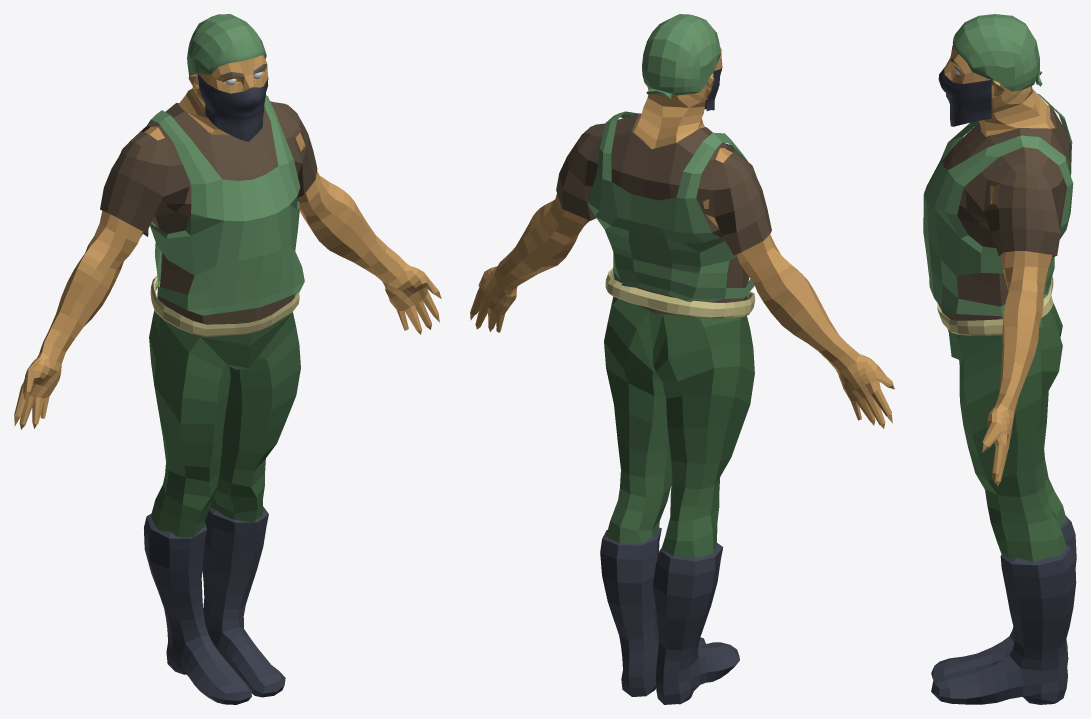
Rendered from milita_v1_APose.fbx.
The picture shows the model from 3 angles, left to right: view 1: azimuth 30°, elevation 25°; view 2: azimuth 150°, elevation 25°; view 3: azimuth 270°, elevation 25°; orthographic projection. The views are drawn at different scales.
Visible parts, largest first — view 1: body, scarf; view 2: body; view 3: body, scarf.
Boxes of the visible parts, <box> form: body: <box>14,14,441,704</box>; scarf: <box>198,74,268,141</box>; body: <box>470,14,894,704</box>; body: <box>923,14,1076,704</box>; scarf: <box>938,67,991,126</box>.
Size of the model in its own units: 134 by 199 by 41.06.
